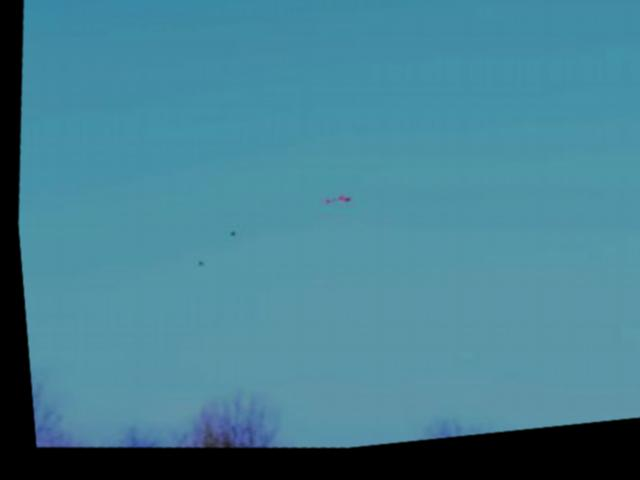uav: (312, 189, 357, 223)
